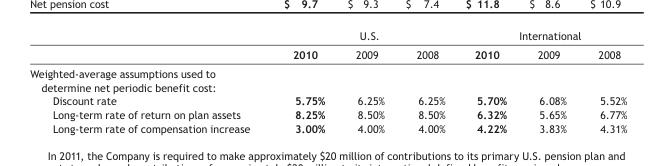table: (29, 28, 626, 134)
table column: (29, 28, 270, 134), (270, 28, 339, 134), (459, 28, 521, 134), (339, 28, 399, 134), (399, 28, 459, 134), (521, 28, 581, 134), (581, 28, 626, 134)
table column header: (29, 28, 626, 63)
table projected row header: (29, 63, 626, 93)
table row: (29, 63, 626, 93), (29, 44, 626, 63), (29, 28, 626, 44), (29, 93, 626, 107), (29, 107, 626, 121), (29, 121, 626, 134)
table spanning cell: (270, 28, 459, 44), (459, 28, 626, 44)
